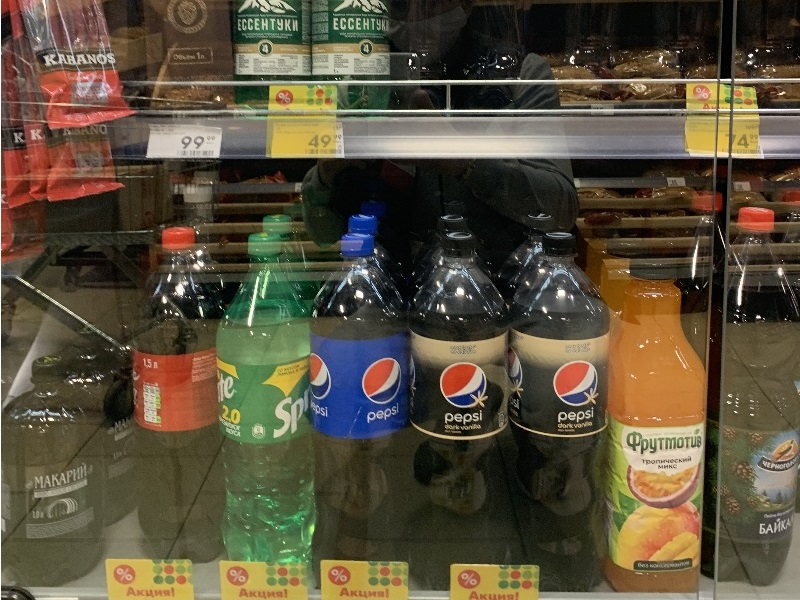lemonade: (207, 229, 334, 590), (394, 230, 520, 593), (117, 224, 244, 568), (297, 230, 414, 595), (505, 230, 620, 598)
